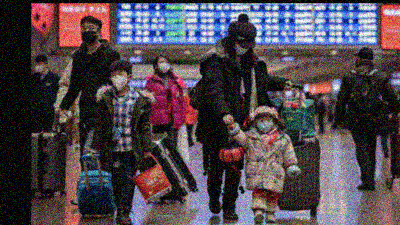with_mask: (80, 24, 98, 43), (111, 71, 129, 90), (258, 116, 274, 132), (235, 40, 250, 57), (158, 60, 170, 74), (35, 61, 46, 73)
